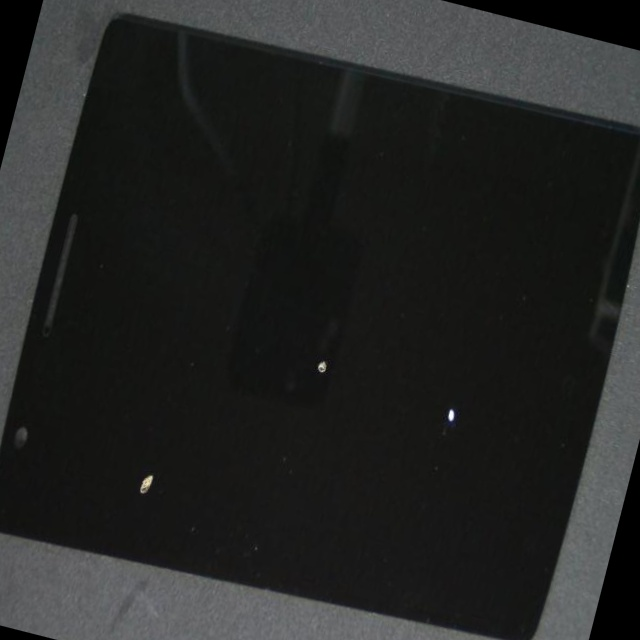stain: (178, 138, 640, 618), (122, 125, 546, 567), (20, 175, 345, 640)
